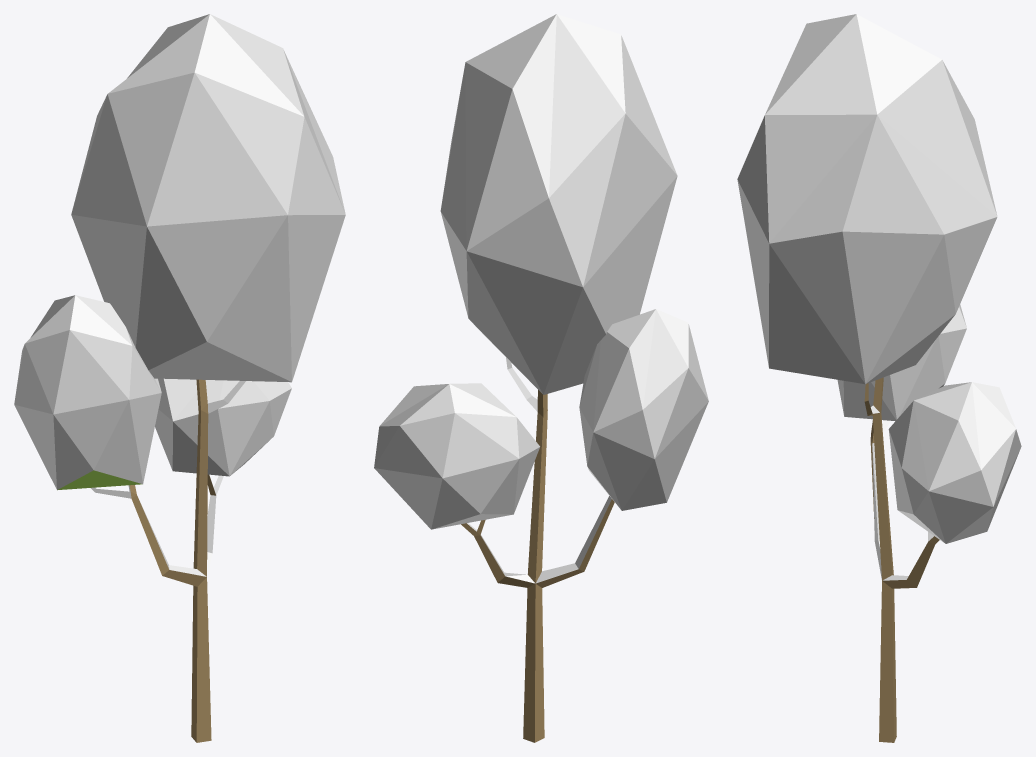
The model's file is Random_Tree_s_Snow_BT_02.fbx.
The picture shows the model from 3 angles, left to right: view 1: azimuth 30°, elevation 25°; view 2: azimuth 150°, elevation 25°; view 3: azimuth 270°, elevation 25°; orthographic projection. The views are drawn at different scales.
Visible parts, largest first — view 1: Random_Tree_s_Snow_BT_02; view 2: Random_Tree_s_Snow_BT_02; view 3: Random_Tree_s_Snow_BT_02.
Part boxes in pixels (left/top/right/bottom): Random_Tree_s_Snow_BT_02: left=14, top=14, right=345, bottom=742; Random_Tree_s_Snow_BT_02: left=374, top=14, right=708, bottom=742; Random_Tree_s_Snow_BT_02: left=737, top=14, right=1021, bottom=742.
Size of the model in its own units: 163 by 409 by 146.
